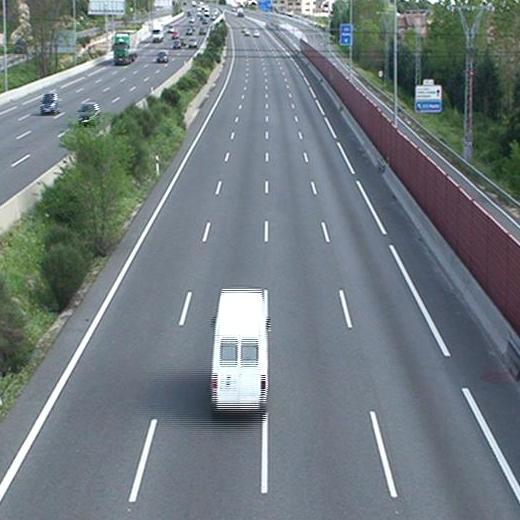van: (211, 287, 270, 417)
